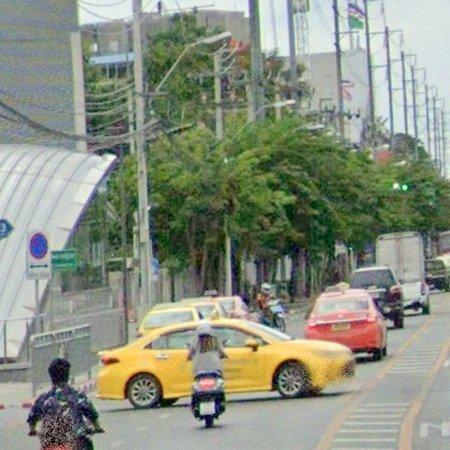taxis: (208, 320, 356, 398), (99, 323, 202, 409), (138, 307, 200, 336)
